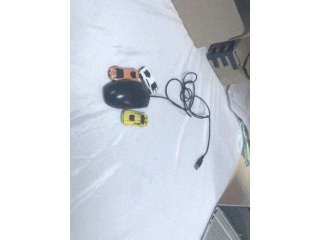box: (207, 36, 250, 85)
mouse: (104, 80, 150, 109)
toy_car: (108, 66, 140, 81), (121, 110, 148, 127)
